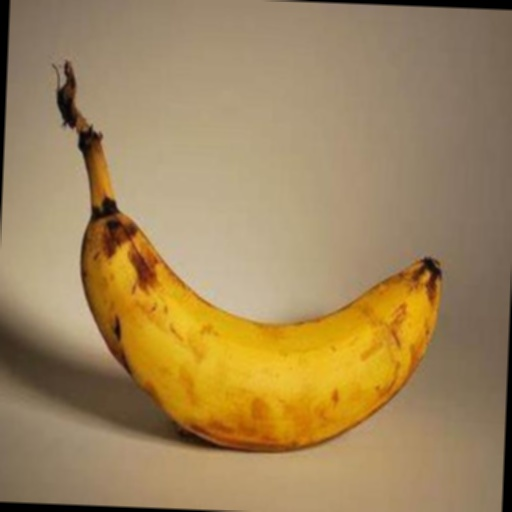fruit: (397, 142, 484, 465)
